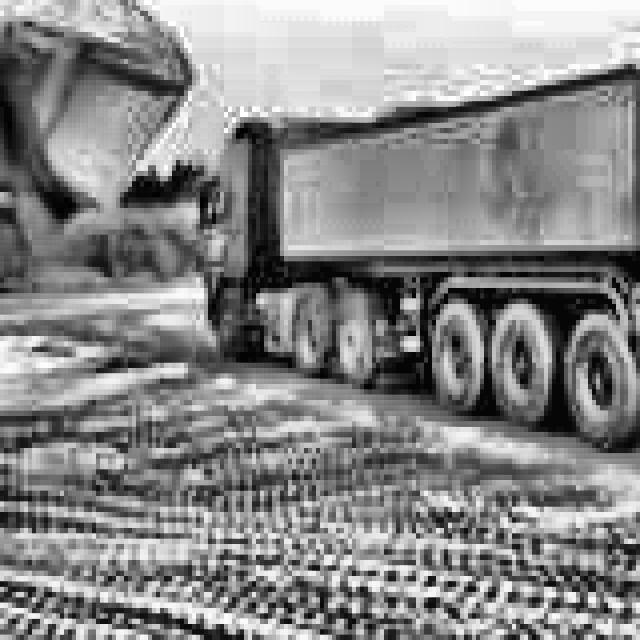buldozerpayloadergrader: (0, 6, 192, 550)
dump_truck: (192, 21, 640, 448)
